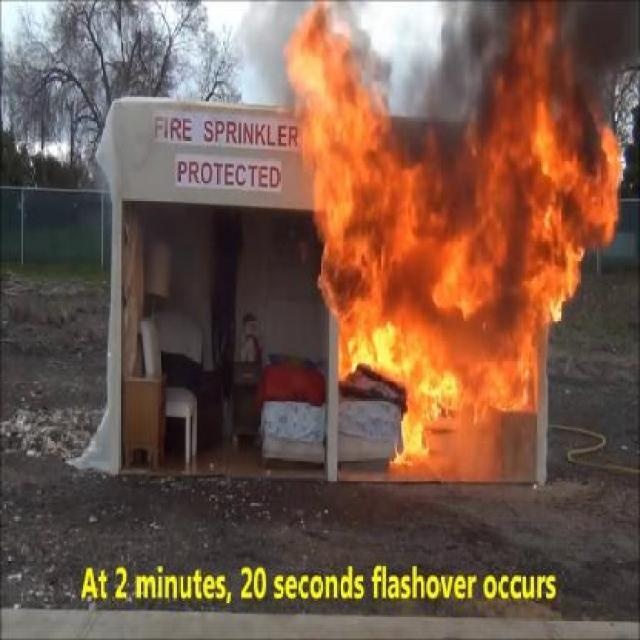fire: (282, 29, 595, 468)
